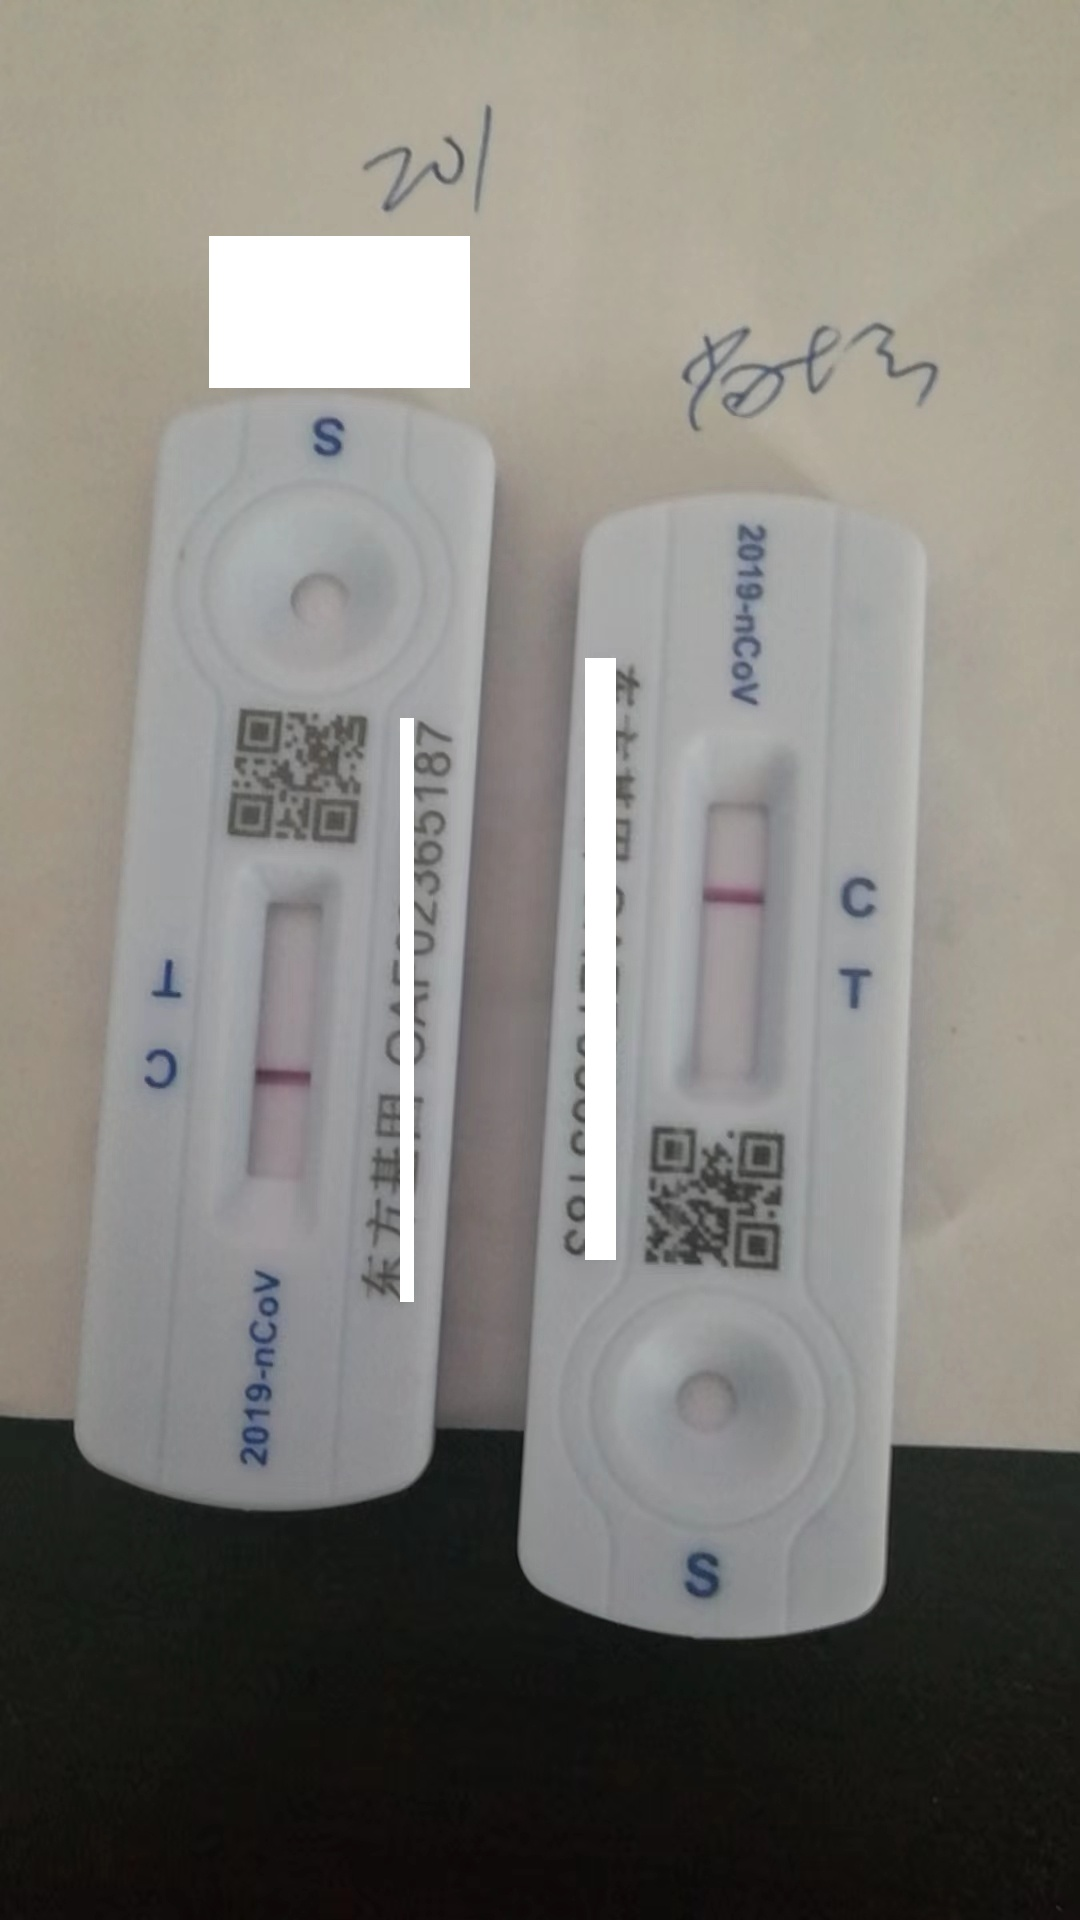negative: (675, 746, 787, 1137), (235, 874, 328, 1215)
